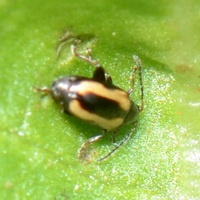insect: (36, 34, 143, 161)
